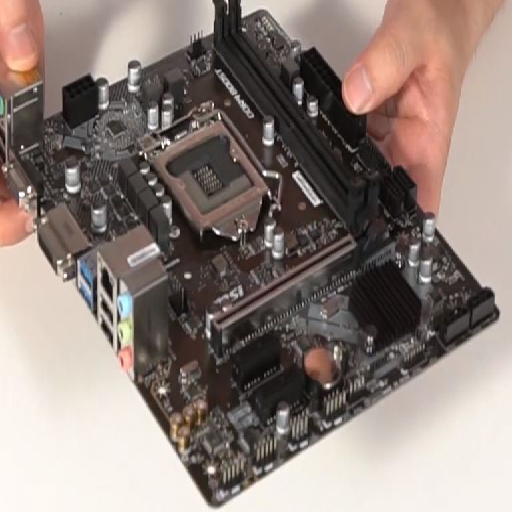CPU: (139, 103, 280, 249)
GPU: (203, 235, 360, 353)
MOTHERBOARD: (1, 8, 499, 502)
RAM: (210, 1, 380, 238)
